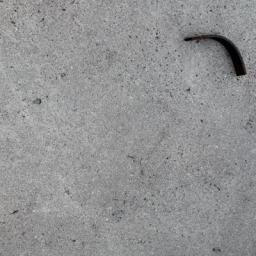FOD: (183, 32, 250, 82)
